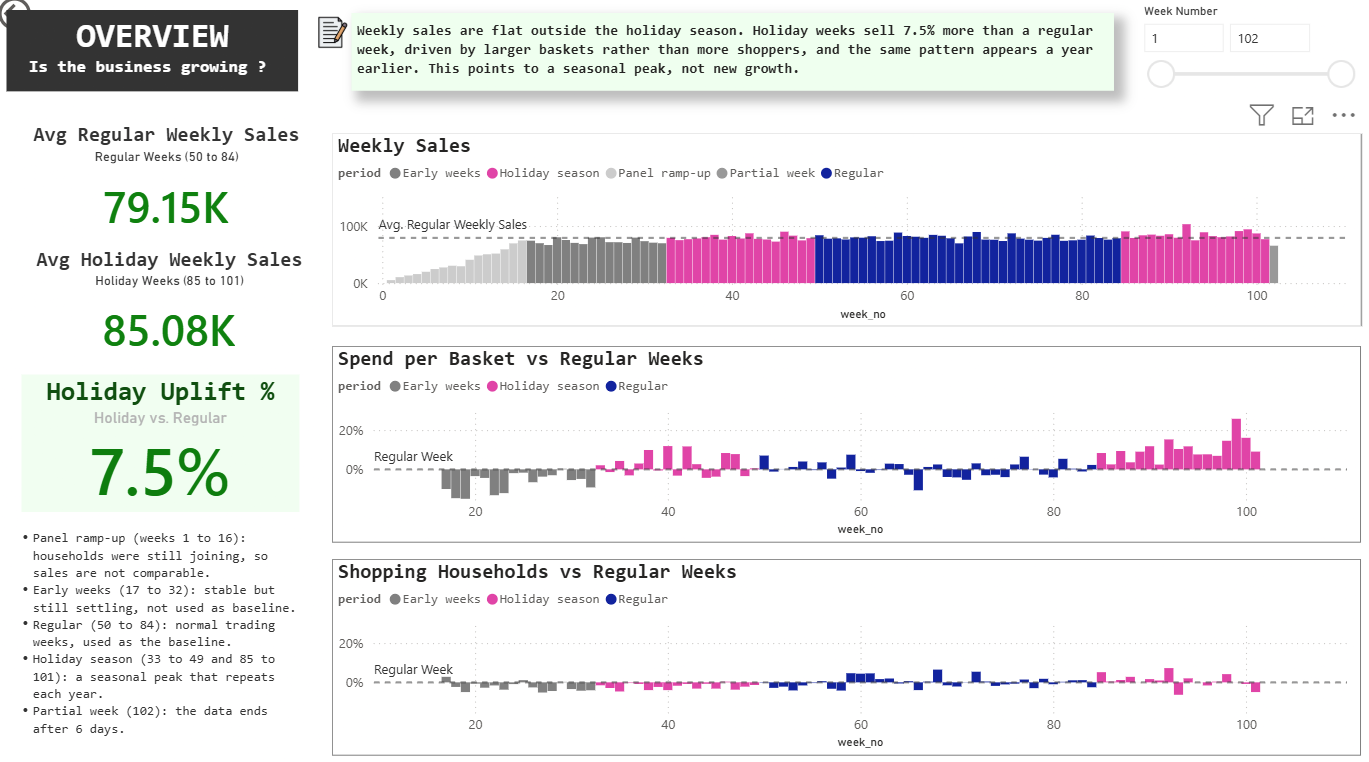

The page's visual inventory and layout, read from the dashboard file:
{"tool":"powerbi","page":{"name":"Overview","canvas":[1280,720],"ordinal":0},"visuals":[{"type":"cardVisual","title":"Avg Regular Weekly Sales","fields":{"Data":["_Measures.Baseline Weekly Sales"]},"box":[17.1,119,287.9,115.5],"z":0},{"type":"textbox","box":[332.6,19.7,706.1,72.1],"z":1000},{"type":"lineStackedColumnComboChart","title":"Weekly Sales","fields":{"Category":["public dash_weekly.week_no"],"Y":["Sum(public dash_weekly.sales)"],"Series":["public dash_weekly.period"]},"box":[314.5,130.9,953.4,179.3],"z":2000},{"type":"lineStackedColumnComboChart","title":"Spend per Basket vs Regular Weeks","fields":{"Category":["public dash_weekly.week_no"],"Series":["public dash_weekly.period"],"Y":["_Measures.Basket Value vs Regular %"]},"box":[314.5,327.3,952.7,181.8],"z":3000},{"type":"textbox","box":[13.8,491.4,284.5,215.5],"z":4000},{"type":"cardVisual","title":"Avg Holiday Weekly Sales","fields":{"Data":["_Measures.Holiday Weekly Sales"]},"box":[18.8,234.5,287.9,112.1],"z":5000},{"type":"cardVisual","title":"Holiday Uplift %","fields":{"Data":["_Measures.Holiday Uplift %"]},"box":[26.2,353.9,257.4,127.2],"z":6000},{"type":"slicer","fields":{"Values":["public dash_weekly.week_no"]},"box":[1052.7,5.5,216.4,87.3],"z":7000},{"type":"actionButton","box":[0,0,100,40],"z":8000},{"type":"lineStackedColumnComboChart","title":"Shopping Households vs Regular Weeks","fields":{"Category":["public dash_weekly.week_no"],"Series":["public dash_weekly.period"],"Y":["_Measures.Households vs Regular %"]},"box":[314.5,525.5,952.7,181.8],"z":9000},{"type":"textbox","box":[13.1,16.4,270.3,75.4],"z":10000},{"type":"image","box":[299.8,16.4,29.5,41],"z":12000}]}

Visuals, with their boxes in screenshot pixels (x1, y1, x2, y2), scaled from the page's 1280x720 canvas onto the 1369x762 screenshot:
"Avg Regular Weekly Sales" cardVisual: {"x1": 18, "y1": 126, "x2": 326, "y2": 248}
textbox: {"x1": 356, "y1": 21, "x2": 1111, "y2": 97}
"Weekly Sales" lineStackedColumnComboChart: {"x1": 336, "y1": 139, "x2": 1356, "y2": 328}
"Spend per Basket vs Regular Weeks" lineStackedColumnComboChart: {"x1": 336, "y1": 346, "x2": 1355, "y2": 539}
textbox: {"x1": 15, "y1": 520, "x2": 319, "y2": 748}
"Avg Holiday Weekly Sales" cardVisual: {"x1": 20, "y1": 248, "x2": 328, "y2": 367}
"Holiday Uplift %" cardVisual: {"x1": 28, "y1": 375, "x2": 303, "y2": 509}
slicer - public dash_weekly.week_no: {"x1": 1126, "y1": 6, "x2": 1357, "y2": 98}
actionButton: {"x1": 0, "y1": 0, "x2": 107, "y2": 42}
"Shopping Households vs Regular Weeks" lineStackedColumnComboChart: {"x1": 336, "y1": 556, "x2": 1355, "y2": 749}
textbox: {"x1": 14, "y1": 17, "x2": 303, "y2": 97}
image: {"x1": 321, "y1": 17, "x2": 352, "y2": 61}
